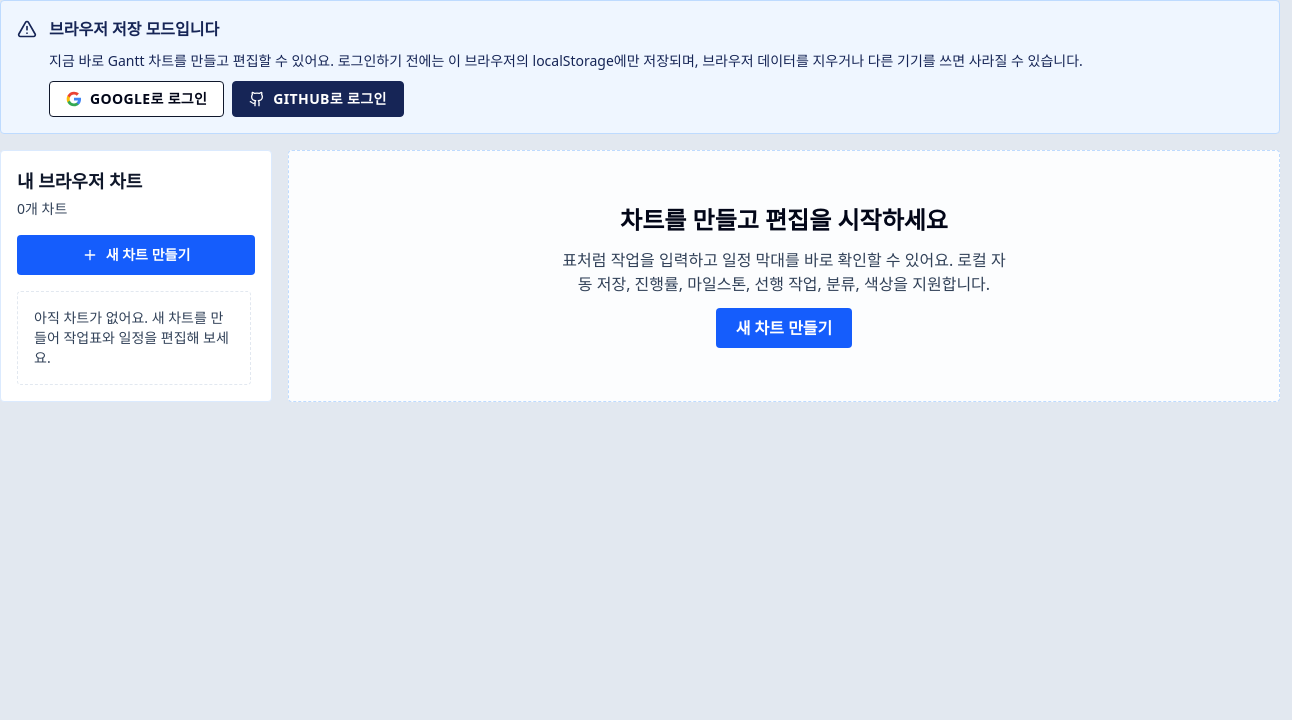
Test: LocalChartWorkspace › exports the active chart as a CSV download
Click the button "새 차트 만들기" below "차트를 만들고 편집을 시작하세요" at (784, 328), box [716,308,852,348]
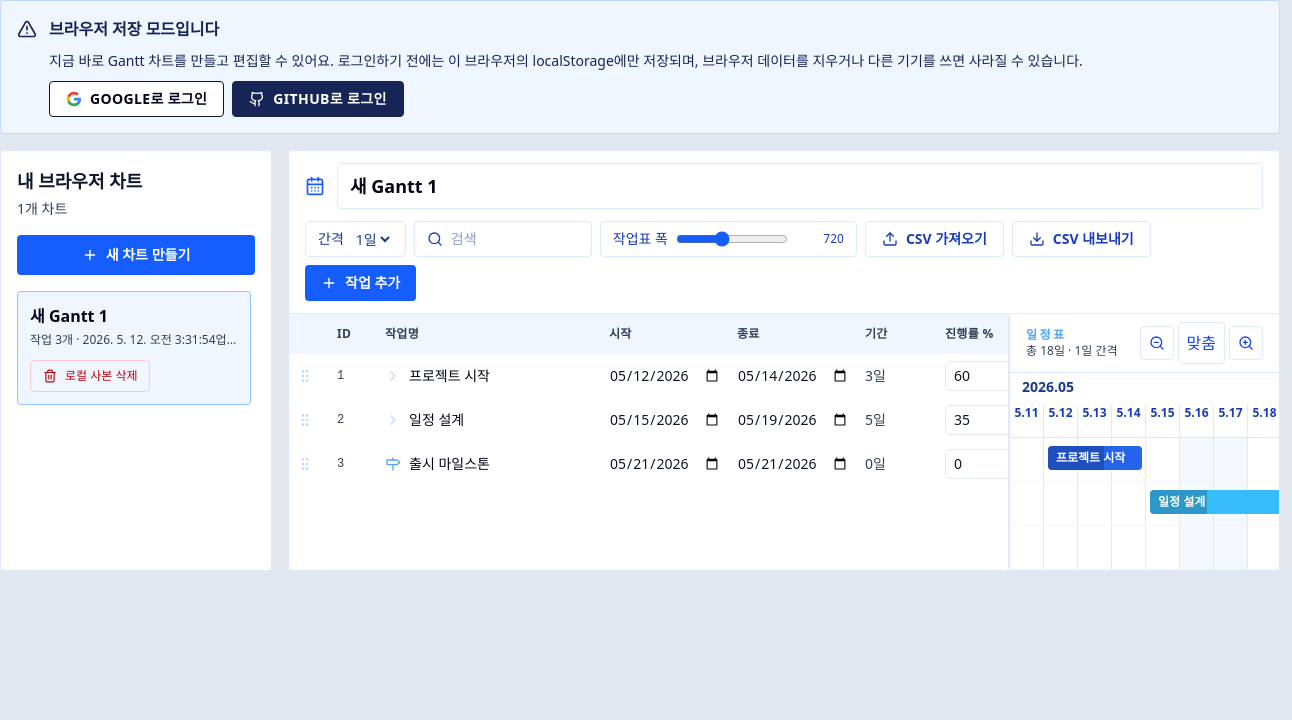
Click the button "CSV 내보내기" at (1081, 239), box [1012,221,1151,257]
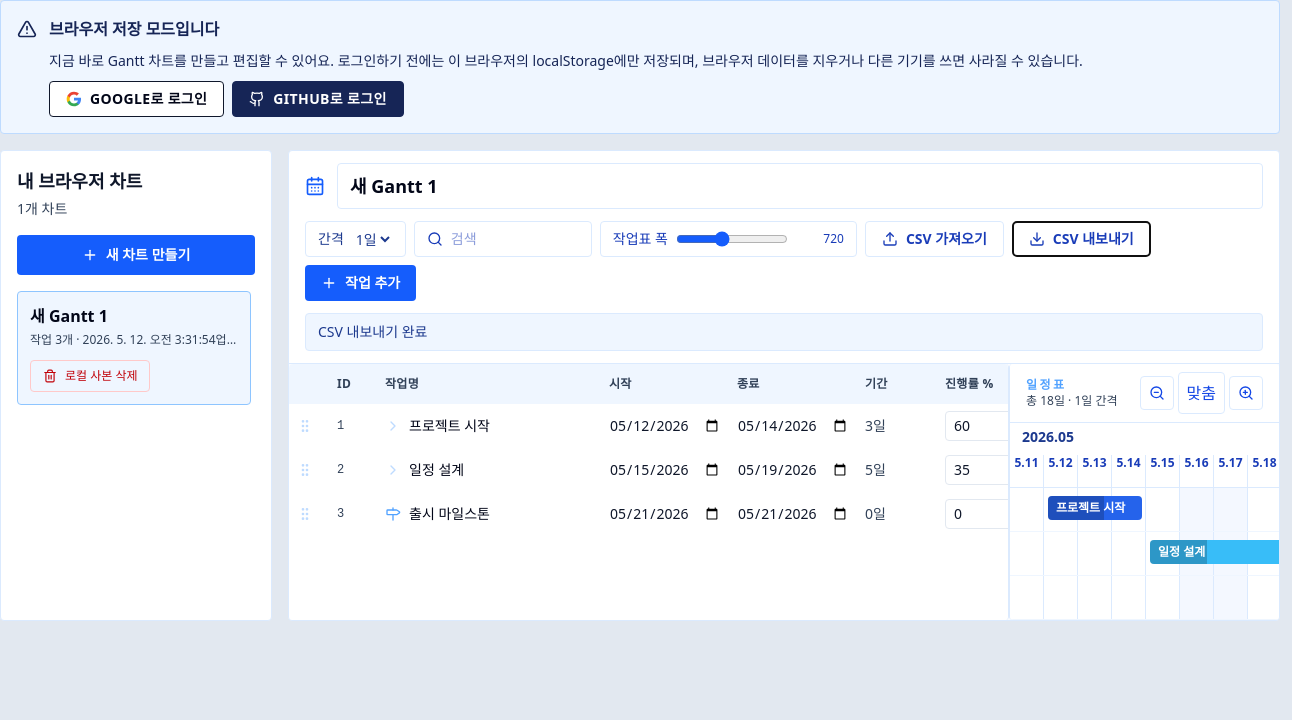
Expected: the message "CSV 내보내기 완료" is shown, [305,313,1263,351]
